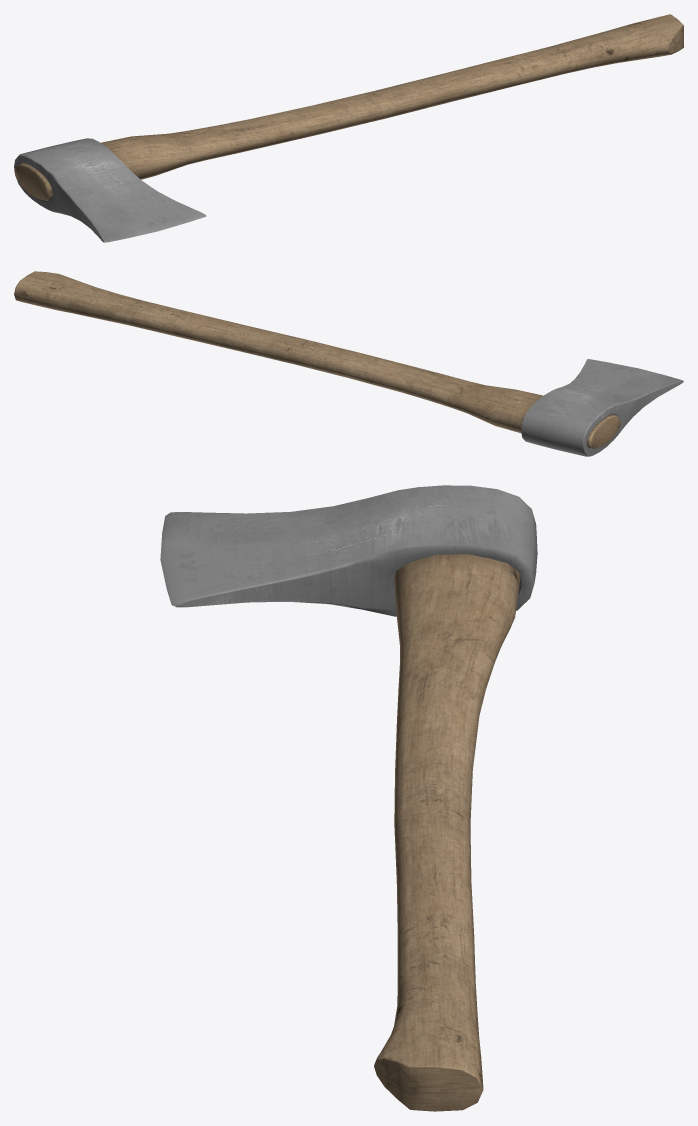
The model's file is axe.fbx.
The picture shows the model from 3 angles, top to bottom: view 1: azimuth 30°, elevation 25°; view 2: azimuth 150°, elevation 25°; view 3: azimuth 270°, elevation 25°; orthographic projection. The views are drawn at different scales.
Visible parts, largest first — view 1: axe; view 2: axe; view 3: axe.
Part boxes in pixels (x1,y1,x2,y2): axe: (14,14,683,242); axe: (14,271,683,456); axe: (160,485,537,1111).
Bounding box in the file's own units: 58.05 × 3.64 × 16.02.
Materials: 1 (1 with a texture image).
